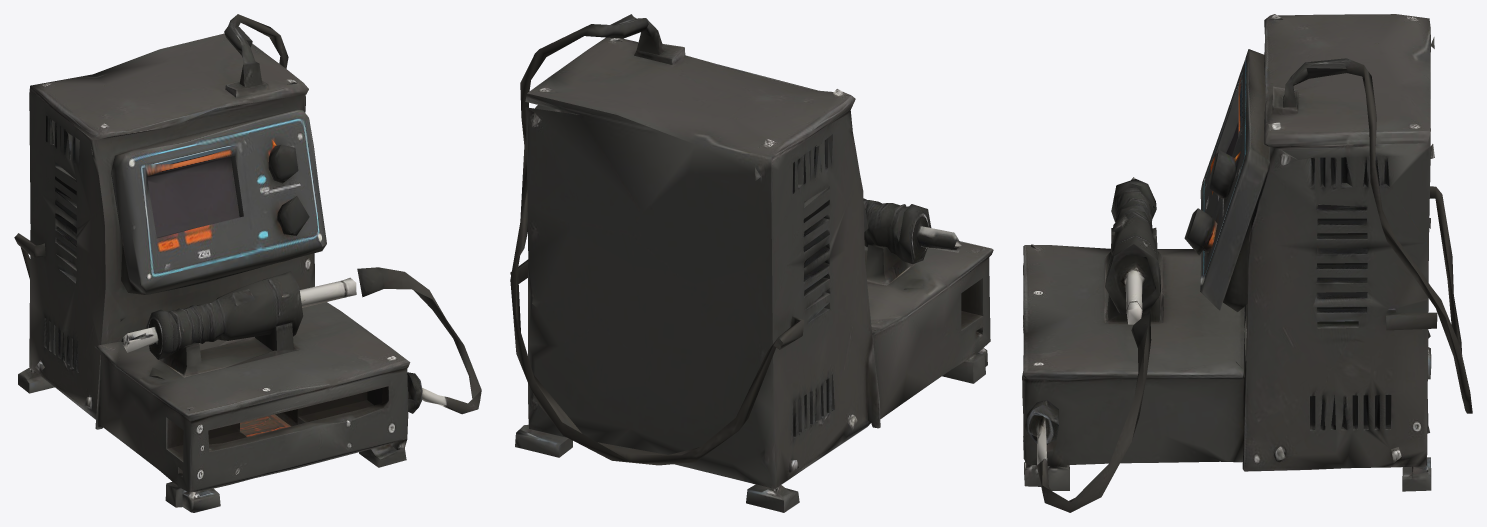
File: 18_hot_air_station.glb
3 views of the same model, side by side, from view 1: azimuth 30°, elevation 25°; view 2: azimuth 150°, elevation 25°; view 3: azimuth 270°, elevation 25° (orthographic). The views are drawn at different scales.
Parts seen in each view (by area): view 1: tripo_node_dc664096-8d52-4c65-b868-ac72f30536e8; view 2: tripo_node_dc664096-8d52-4c65-b868-ac72f30536e8; view 3: tripo_node_dc664096-8d52-4c65-b868-ac72f30536e8.
Boxes of the visible parts, x1,y1,x2,y2 form: tripo_node_dc664096-8d52-4c65-b868-ac72f30536e8: (14,14,481,512); tripo_node_dc664096-8d52-4c65-b868-ac72f30536e8: (510,14,993,512); tripo_node_dc664096-8d52-4c65-b868-ac72f30536e8: (1022,14,1472,512).
Size of the model in its own units: 0.22 by 0.22 by 0.22.
1 material, 1 textured.
